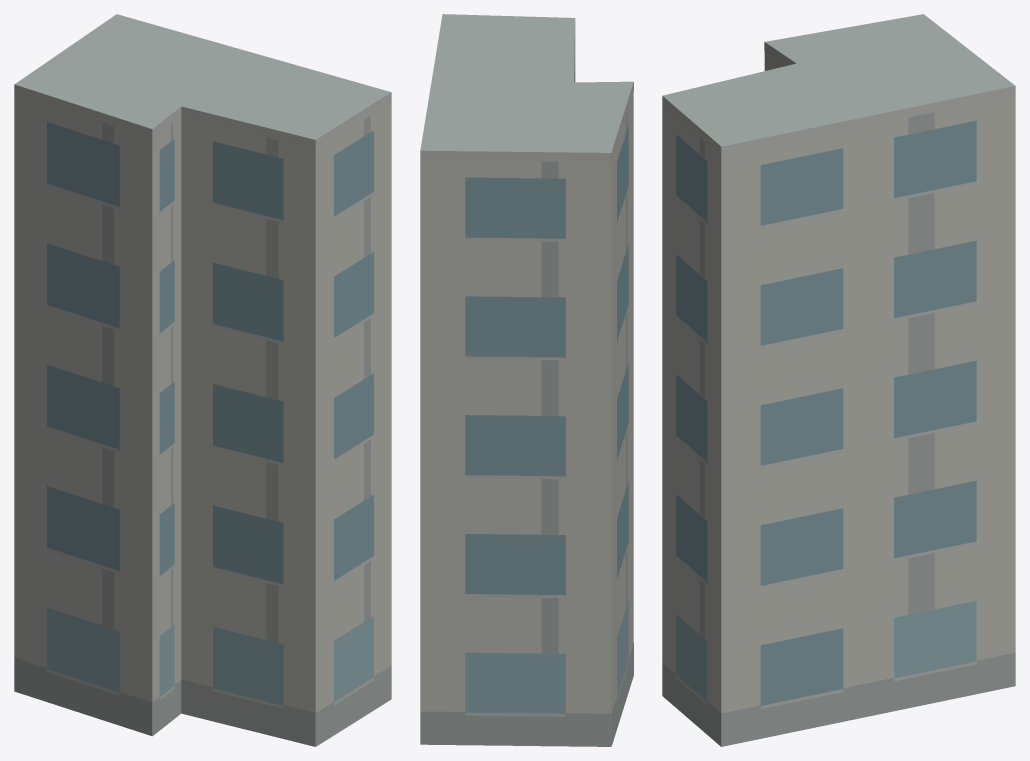
File: survey-upis-32512651.glb
3 renders of one model, left to right at view 1: azimuth 30°, elevation 25°; view 2: azimuth 150°, elevation 25°; view 3: azimuth 270°, elevation 25°, orthographic. The views are drawn at different scales.
Parts seen in each view (by area): view 1: survey-upis-32512651.tmp; view 2: survey-upis-32512651.tmp; view 3: survey-upis-32512651.tmp.
Part boxes in pixels (<box>): survey-upis-32512651.tmp: <box>14,14,391,746</box>; survey-upis-32512651.tmp: <box>420,14,633,746</box>; survey-upis-32512651.tmp: <box>662,14,1015,746</box>.
Bounding box in the file's own units: 7.24 × 15.25 × 8.14.
